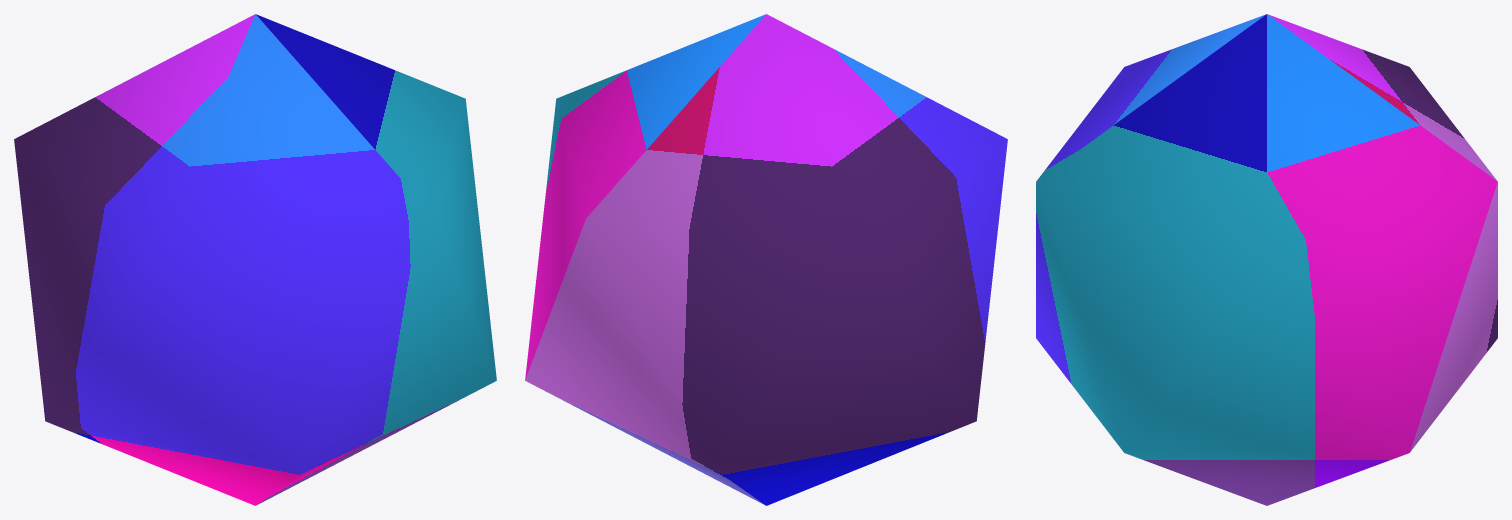
The model's file is telescopic.glb.
The picture shows the model from 3 angles, left to right: view 1: azimuth 30°, elevation 25°; view 2: azimuth 150°, elevation 25°; view 3: azimuth 270°, elevation 25°; orthographic projection.
Visible parts, largest first — view 1: Icosphere; view 2: Icosphere; view 3: Icosphere.
Part boxes in pixels (x1,y1,x2,y2): Icosphere: [14, 14, 496, 505]; Icosphere: [525, 14, 1007, 505]; Icosphere: [1036, 14, 1497, 505].
Size of the model in its own units: 52.96 by 59.22 by 50.37.
Materials: 3 (2 with a texture image).
